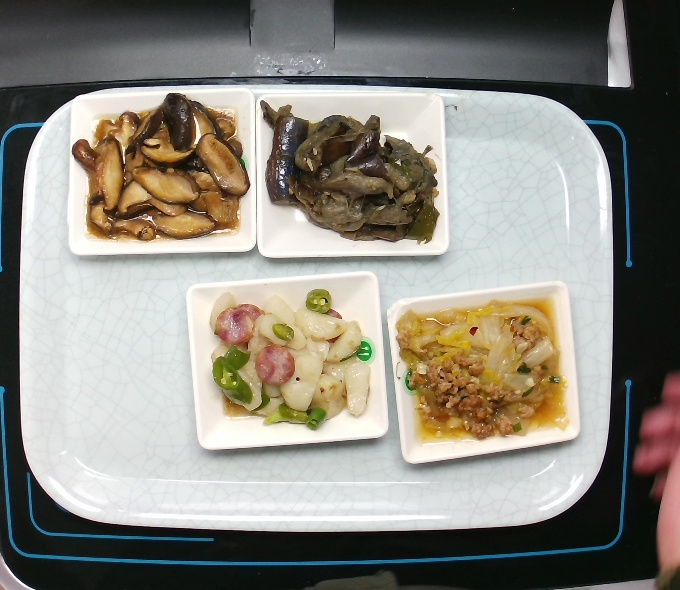wcq-MaTiGuo: (195, 291, 388, 437)
wcq-MoGu: (66, 90, 251, 244)
wcq-QieZi: (257, 95, 445, 253)
wcq-RouMoBaiCai: (394, 303, 575, 442)
